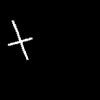single_crochet: (8, 21, 31, 59)
